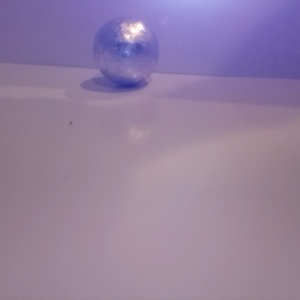alive_ball: (91, 17, 159, 86)
